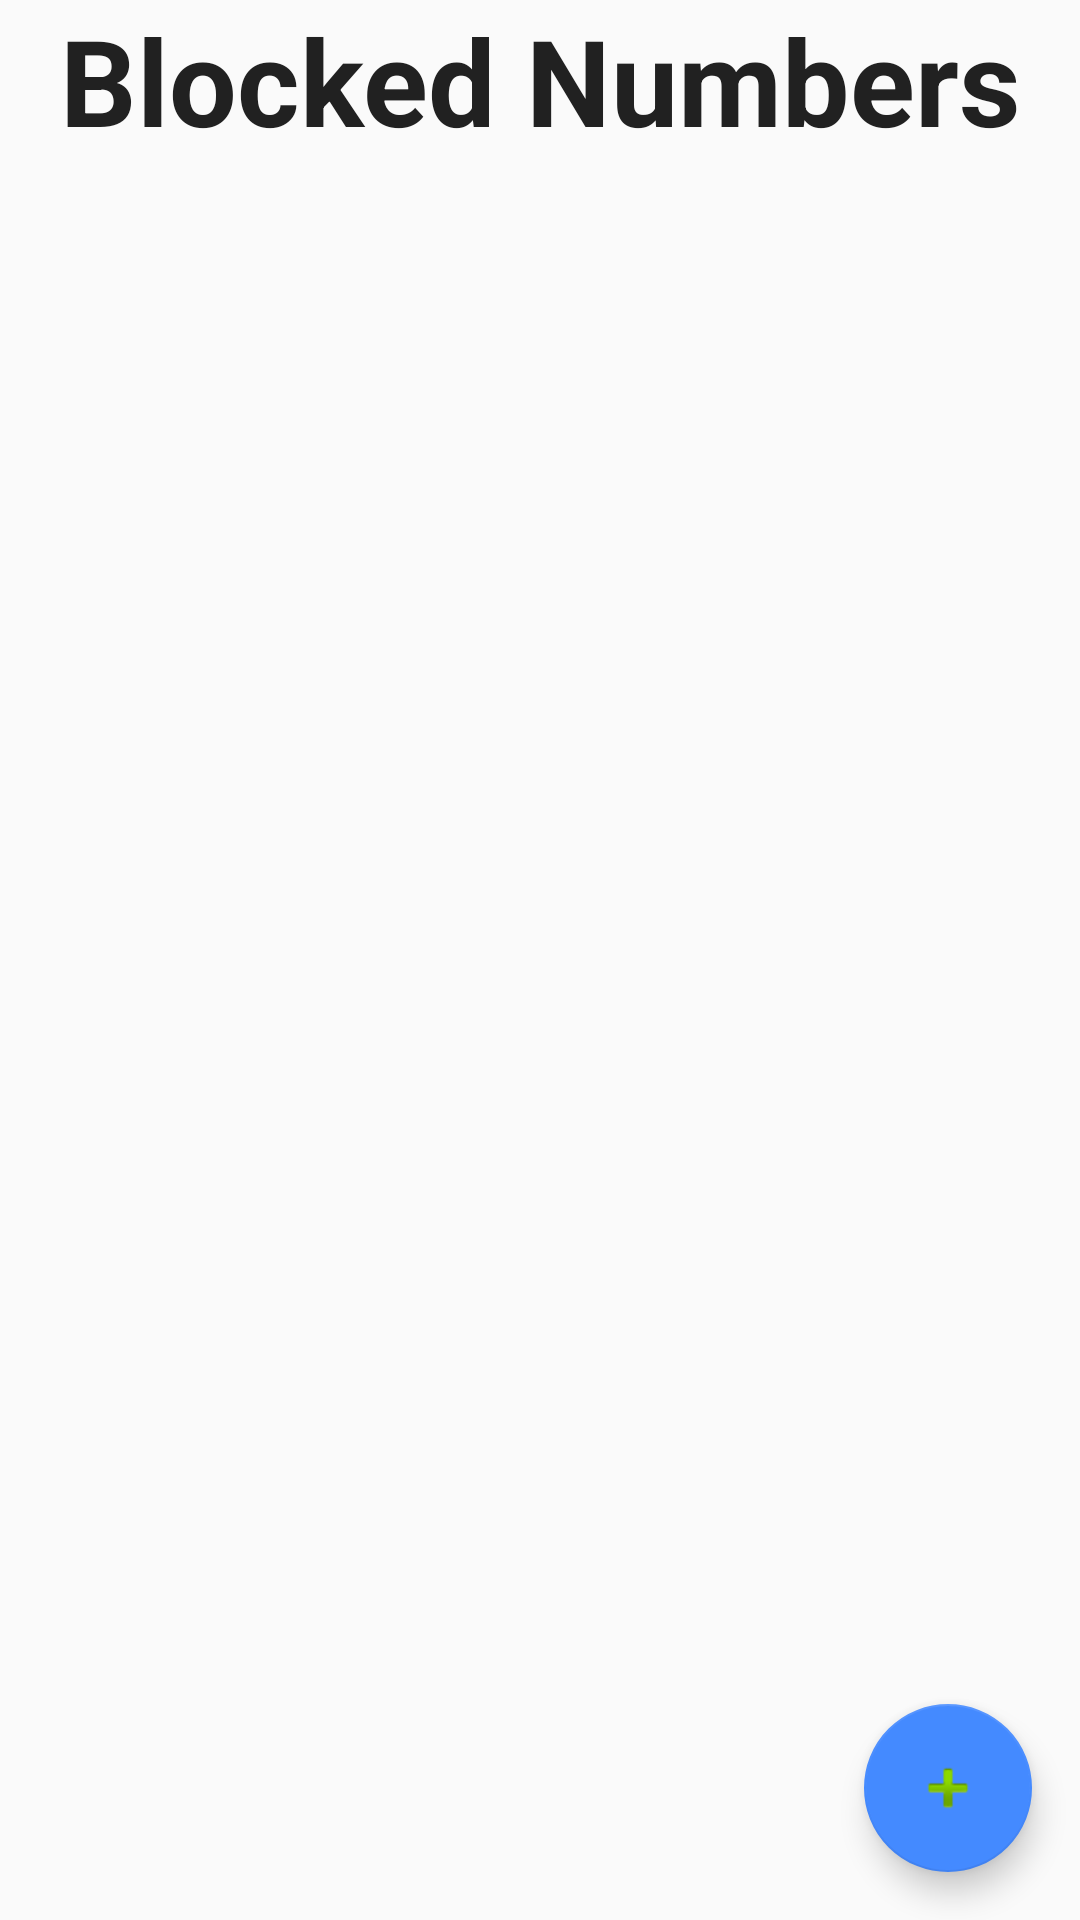

Icon bounding boxes for this 1080px×1920px phone screenshot, format BBox(x1, y1, x2, y2):
add: BBox(864, 1704, 1032, 1872)
